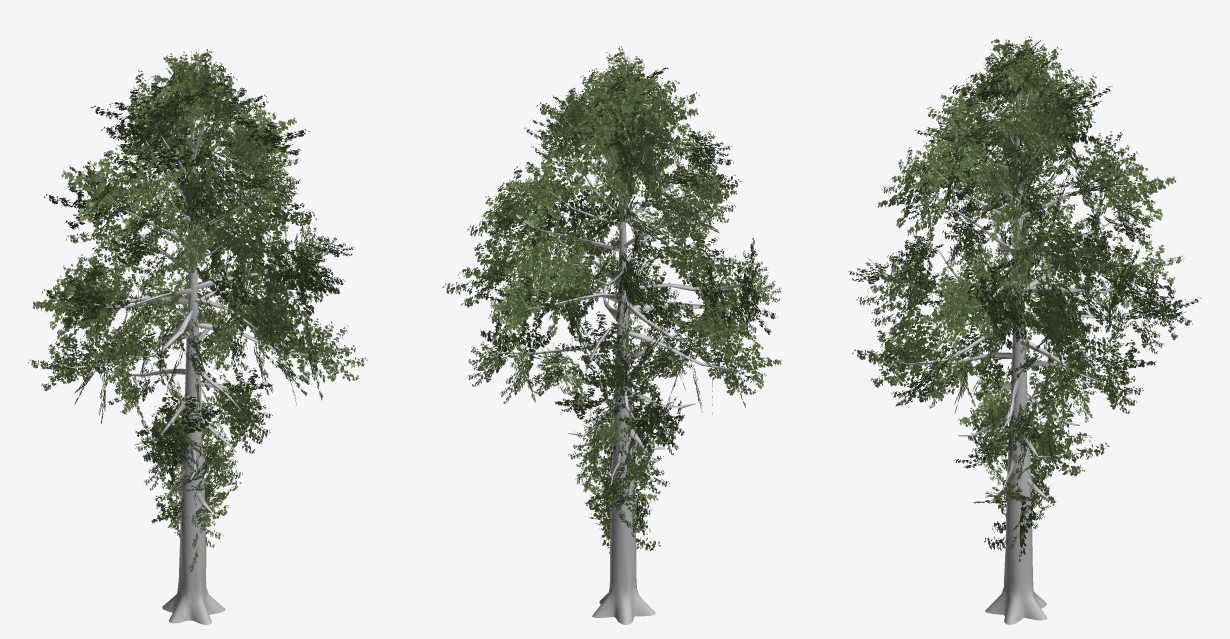
Rendered from American_Sycamore_Model_0.obj.
3 views of the same model, side by side, from view 1: azimuth 30°, elevation 25°; view 2: azimuth 150°, elevation 25°; view 3: azimuth 270°, elevation 25° (orthographic). The views are drawn at different scales.
Parts seen in each view (by area): view 1: Foliage__leafcard, Bark; view 2: Foliage__leafcard, Bark; view 3: Foliage__leafcard, Bark.
Boxes of the visible parts, box(x1,y1,x2,y2) form: Foliage__leafcard: box(27, 49, 367, 571); Bark: box(45, 51, 339, 624); Foliage__leafcard: box(442, 43, 781, 553); Bark: box(477, 51, 754, 624); Foliage__leafcard: box(848, 36, 1201, 561); Bark: box(867, 37, 1158, 624).
Size of the model in its own units: 17.52 by 30 by 17.72.
